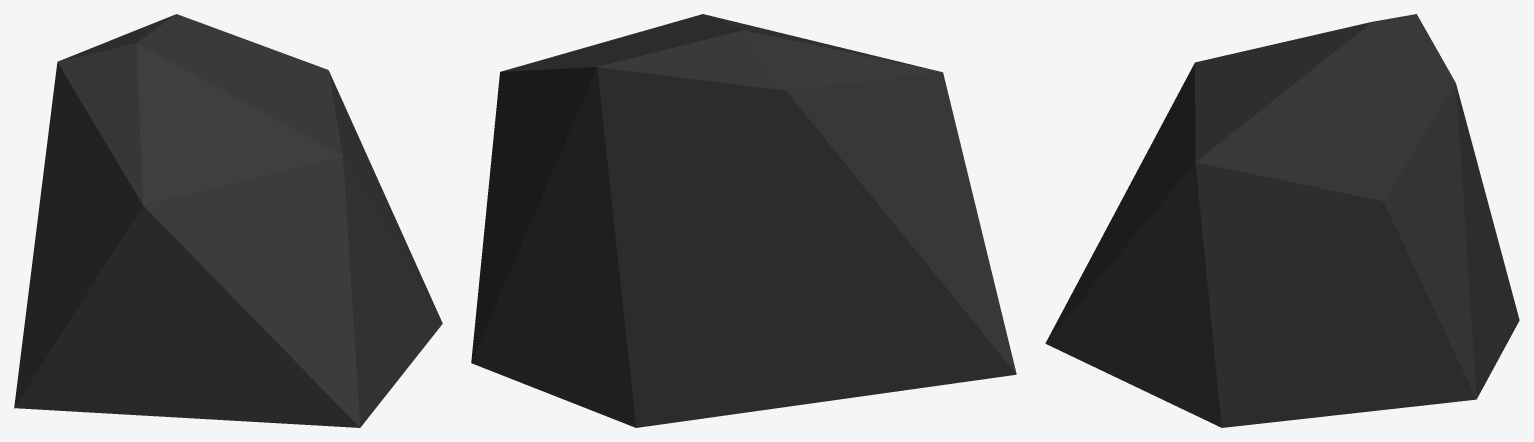
Rendered from RockSmall_2.fbx.
The picture shows the model from 3 angles, left to right: view 1: azimuth 30°, elevation 25°; view 2: azimuth 150°, elevation 25°; view 3: azimuth 270°, elevation 25°; orthographic projection. The views are drawn at different scales.
Visible parts, largest first — view 1: RockSmall_2; view 2: RockSmall_2; view 3: RockSmall_2.
Boxes of the visible parts, bbox=[...] form: RockSmall_2: bbox=[14, 14, 442, 427]; RockSmall_2: bbox=[471, 14, 1016, 427]; RockSmall_2: bbox=[1045, 14, 1519, 427].
Size of the model in its own units: 375 by 249 by 369.
